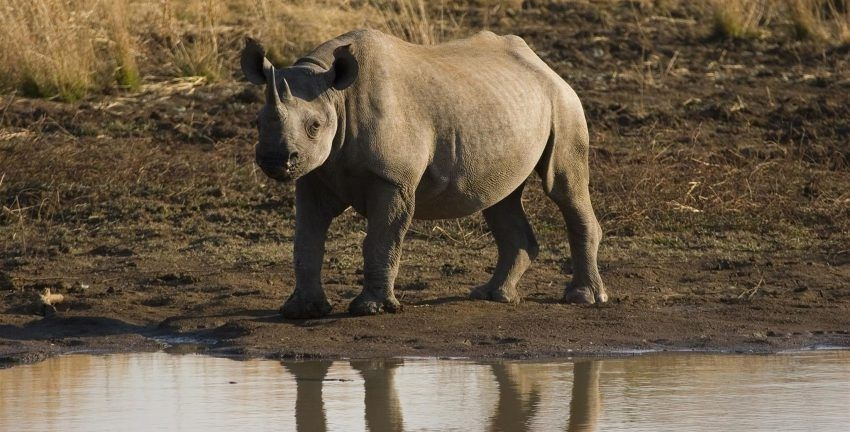rhino: (427, 171, 796, 432)
